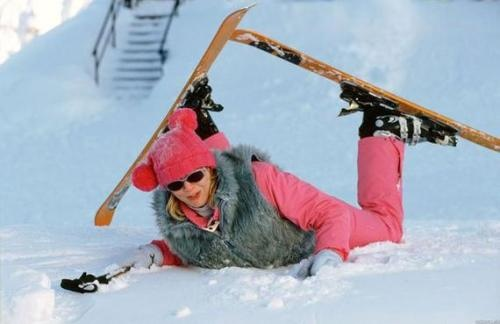falling: (78, 65, 476, 291)
